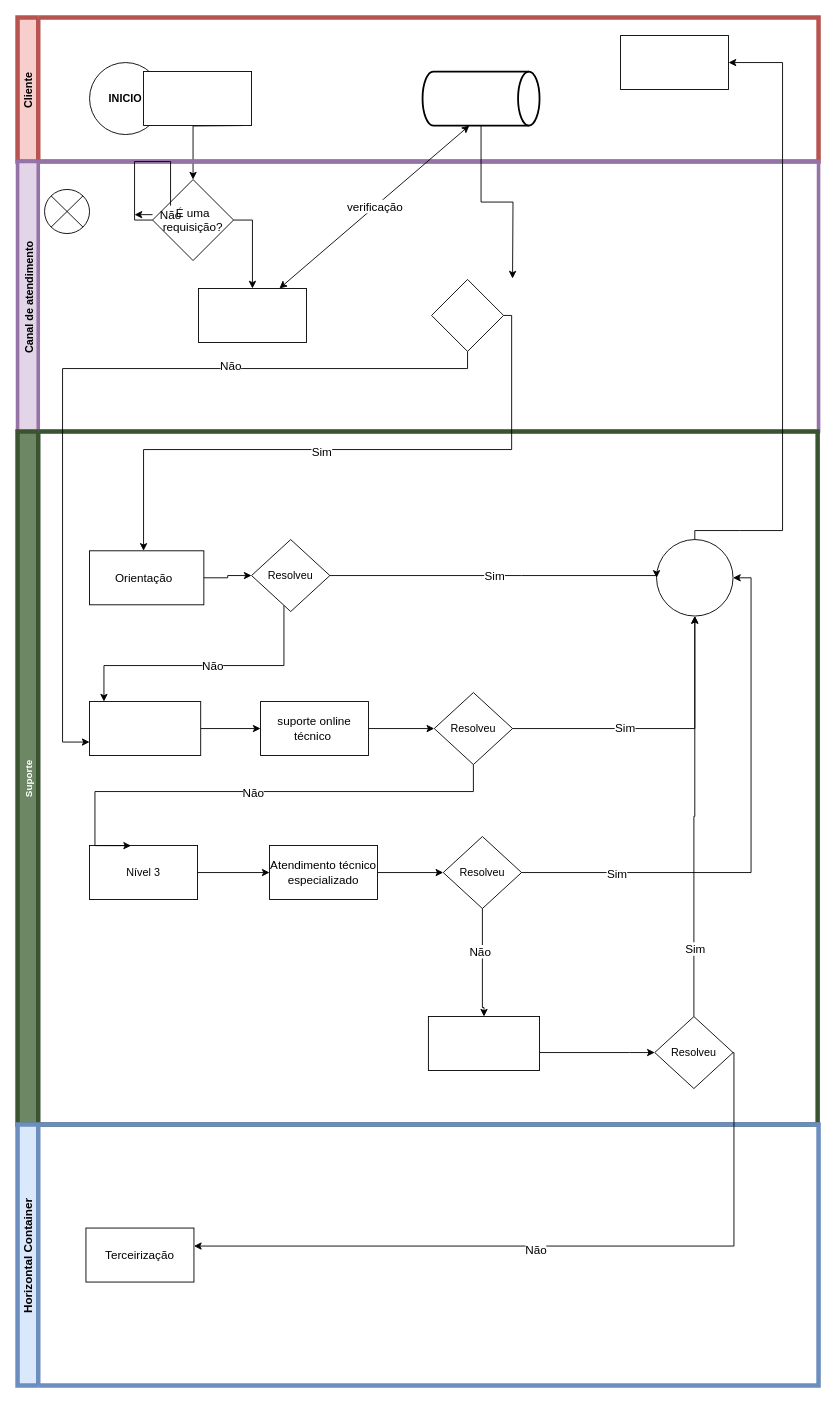
Image size: 836x1403. Some labels were removed from this diagram. The centre of each missing label's shape, as x and y in pixels:
"Abertura de chamado" belongs at (197,98).
"Atualização da base de conhecimento" belongs at (674,62).
"Base de conhecimento" belongs at (480,98).
"Fechamento do chamado /FIM" belongs at (694,577).
"Nível 2" belongs at (145,728).
"Registro da requisição" belongs at (252,315).
"Visita técnica" belongs at (484,1043).
"É nível 1" belongs at (467,315).
